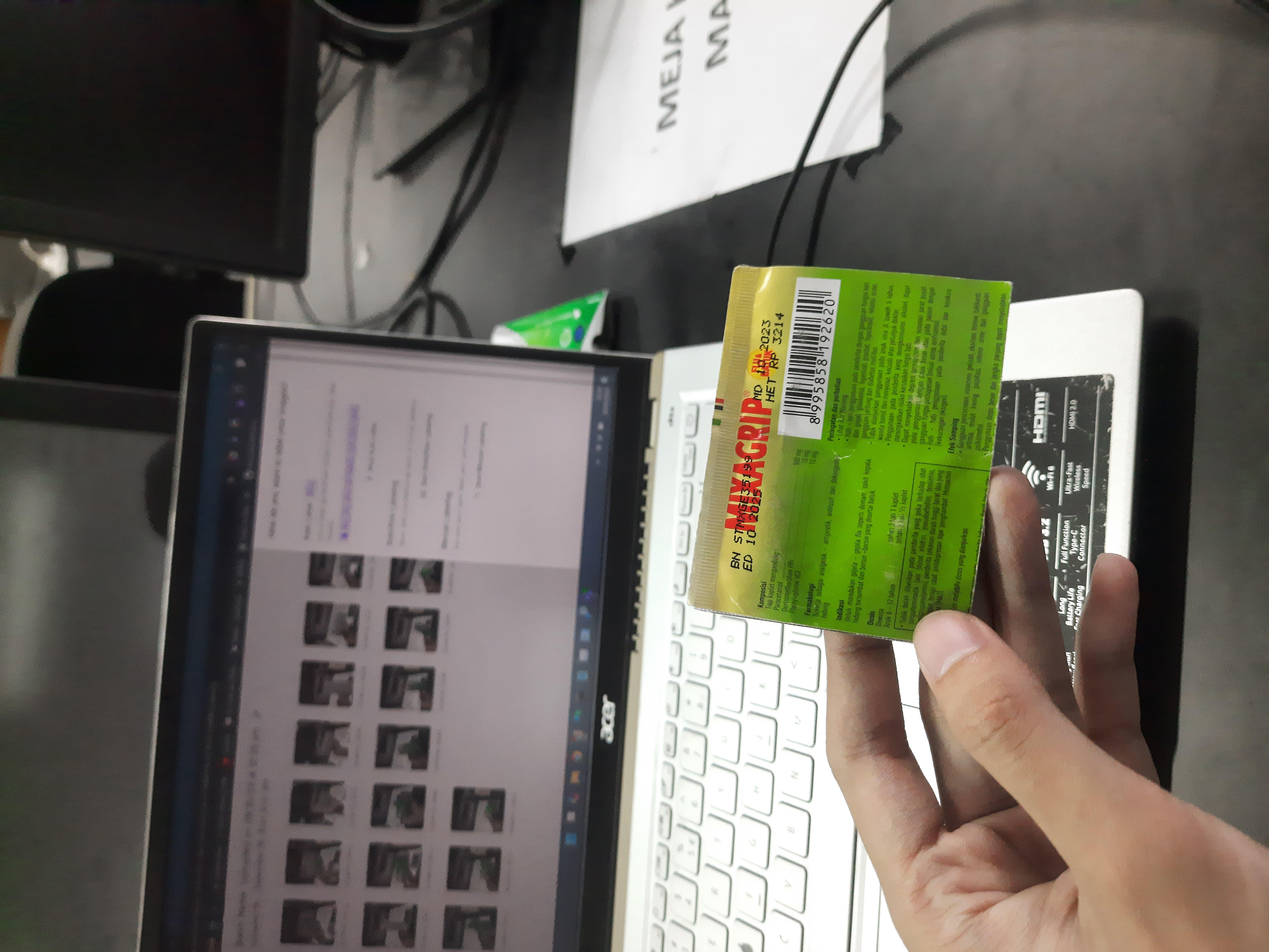Mixagrip Flu dan Batuk: (410, 518, 917, 761)
